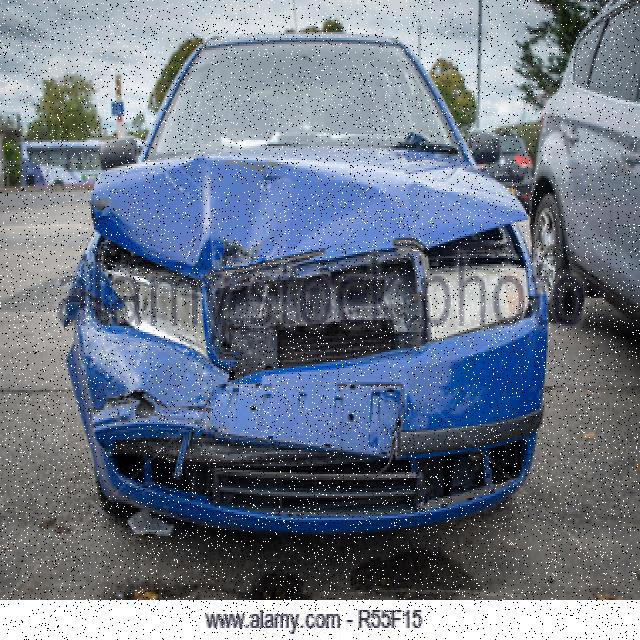bonnet-dent: (87, 162, 524, 278)
front-bumper-dent: (56, 328, 531, 502)
